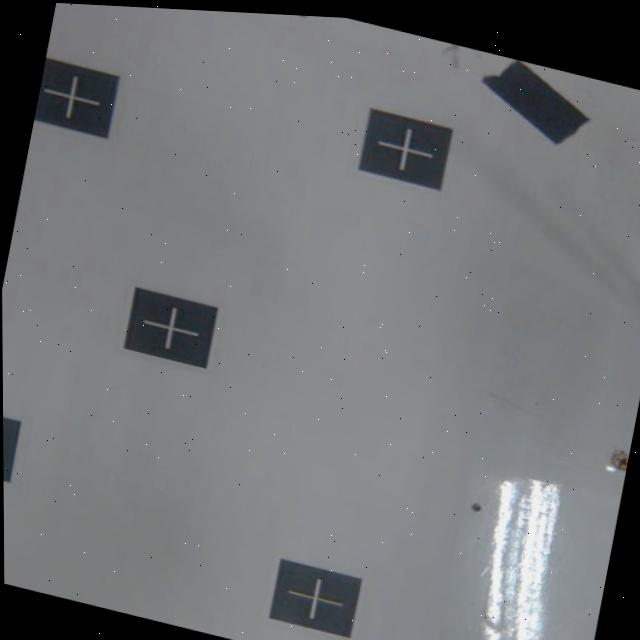dot: (356, 106, 456, 191), (122, 285, 219, 369), (268, 556, 363, 640), (33, 57, 119, 139), (3, 410, 24, 483)
